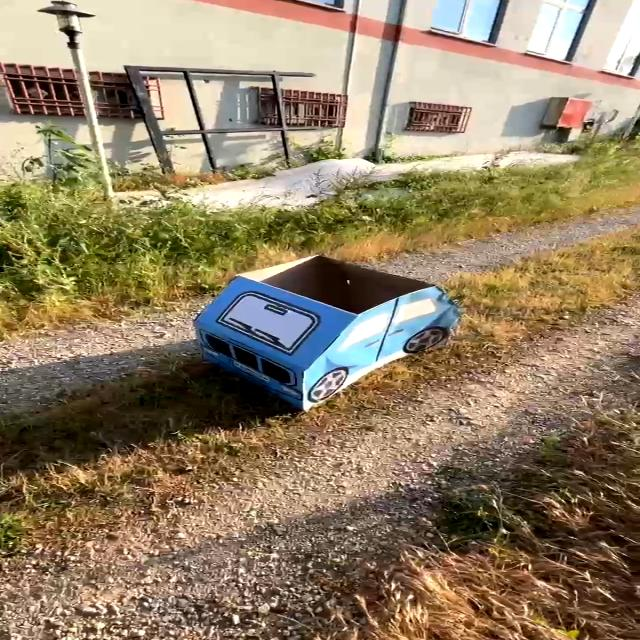blue_car: (115, 225, 496, 438)
